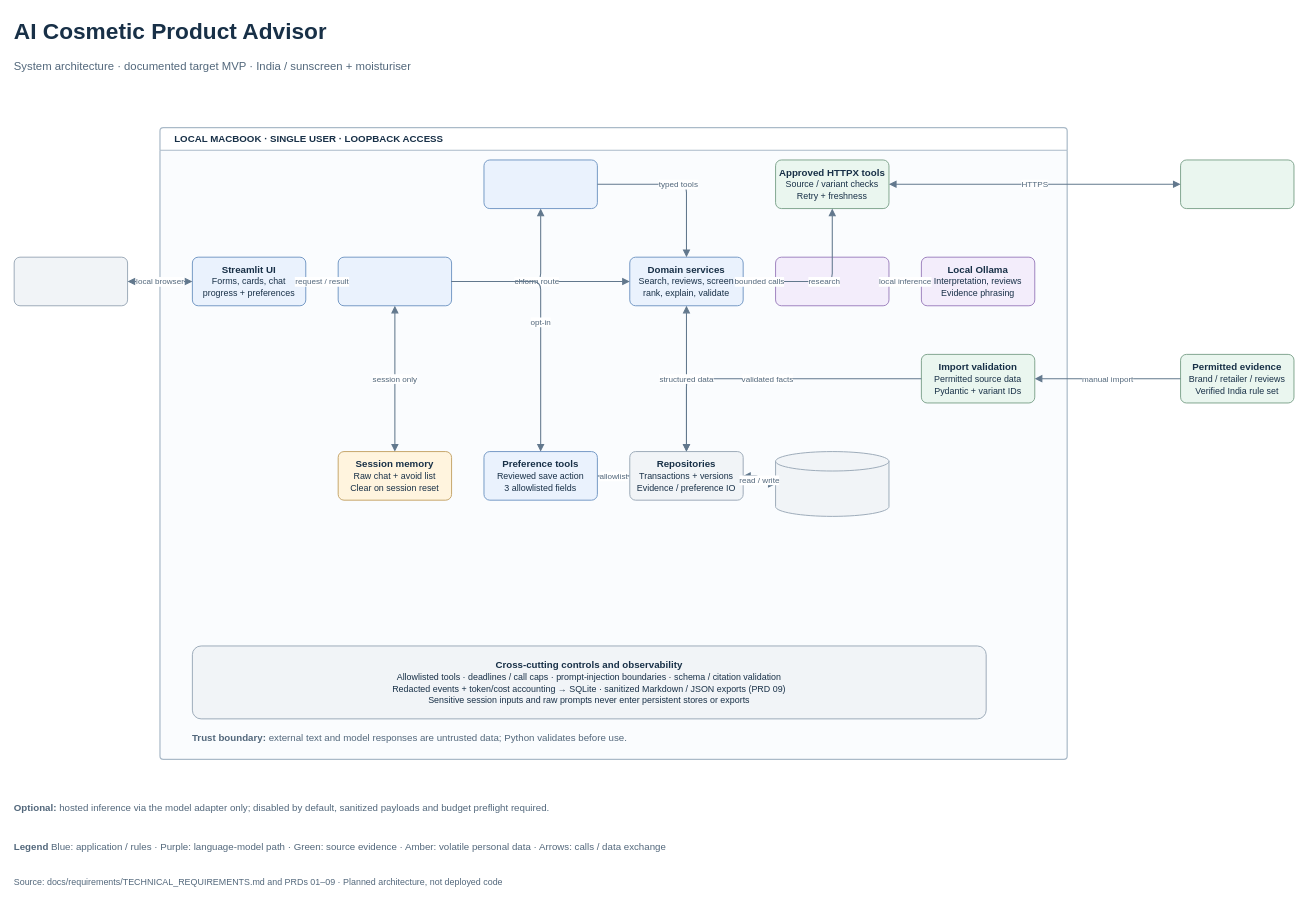
This 1309x904 diagram has some shape labels left out. Each missing label, with the centre of its shape:
"Controller + Pydantic Validate request run/version + cancel" belongs at point 394,281.
"LangGraph One orchestrator Conversation: PRD 07" belongs at point 540,184.
"Model adapter Bounds + JSON schemas Usage + cache keys" belongs at point 832,281.
"Open Beauty Facts Approved external API Attributed product facts" belongs at point 1237,184.
"Shopper / operator Browser on this device search + data upkeep" belongs at point 70,281.
"SQLite Catalog + provenance Artifacts, prefs, events" belongs at point 832,483.
